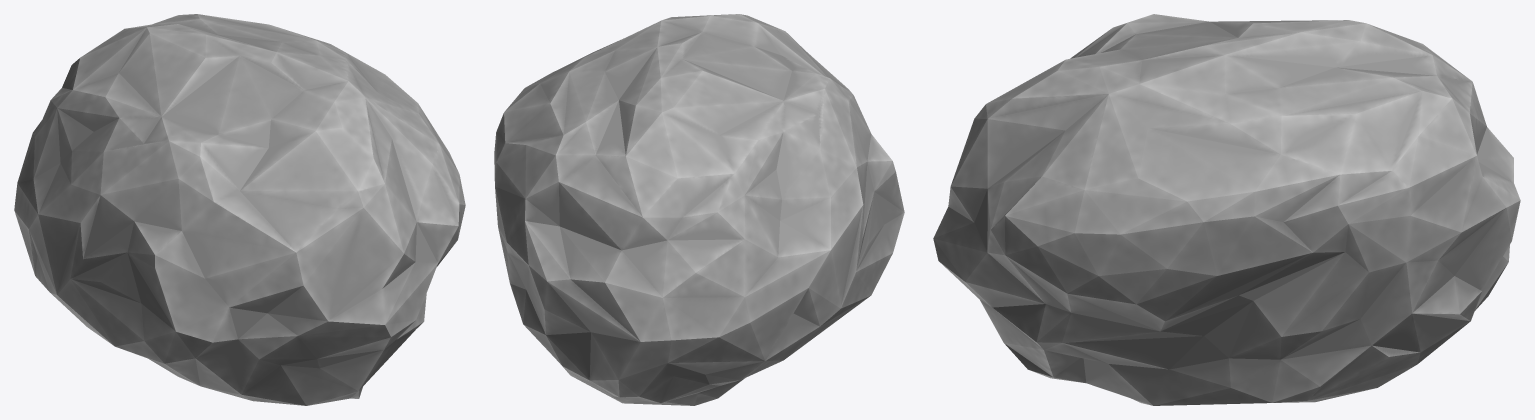
3 renders of one model, left to right at view 1: azimuth 30°, elevation 25°; view 2: azimuth 150°, elevation 25°; view 3: azimuth 270°, elevation 25°, orthographic. The views are drawn at different scales.
Parts seen in each view (by area): view 1: R2; view 2: R2; view 3: R2.
Boxes of the visible parts, x1,y1,x2,y2 form: R2: (14,14,465,405); R2: (494,14,904,405); R2: (933,14,1520,405).
Bounding box in the file's own units: 0.0147 × 0.013 × 0.0195.
Materials: 1 (1 with a texture image).
